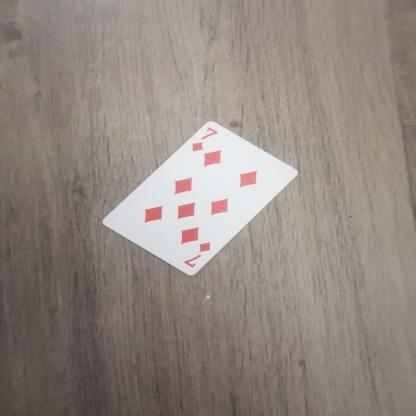7D: (180, 242, 218, 274), (185, 125, 221, 156)
